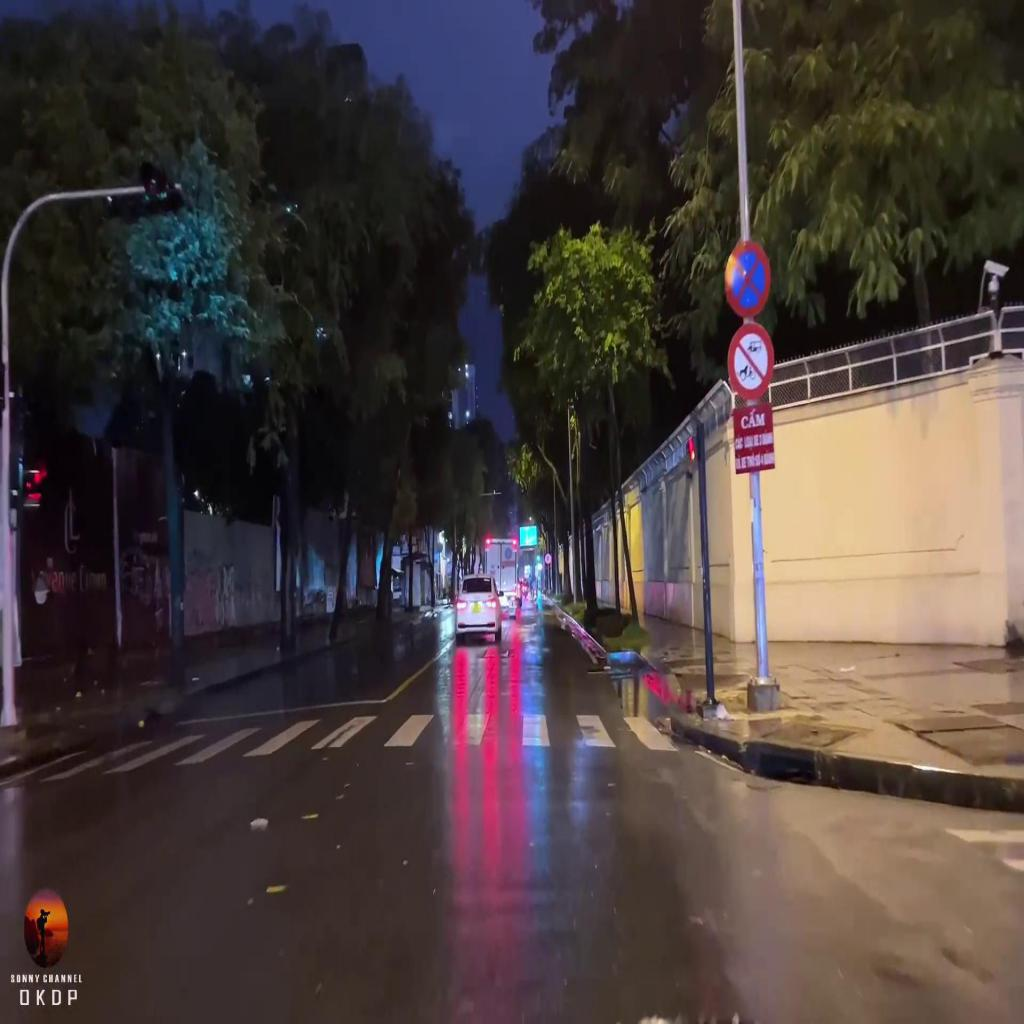cam_cac_loai_xe_3_banh: (728, 320, 775, 403)
cam_dung_xe_va_do_xe: (726, 238, 773, 320)
